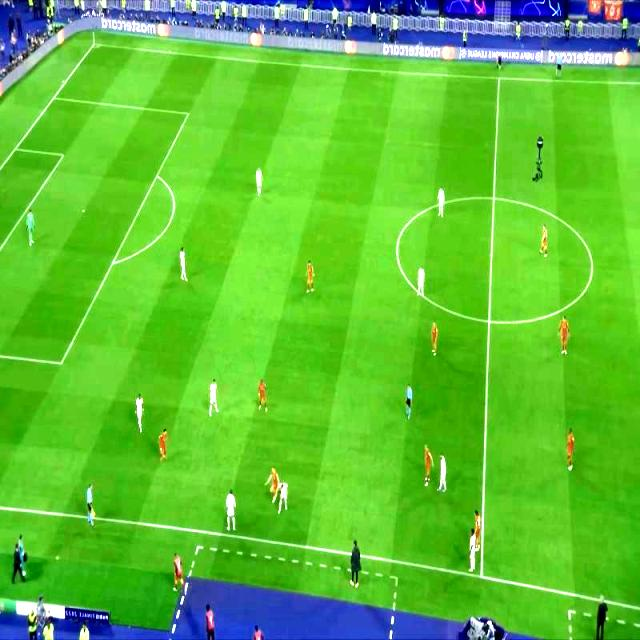bigarea_bottom_inner: (54, 356, 68, 371)
bigarea_top_inner: (182, 108, 194, 120)
bigarea_top_outter: (49, 89, 60, 107)
bottom_arc_area_intersection: (106, 256, 120, 270)
corner: (88, 39, 100, 51)
halfcircle_bottom: (482, 315, 496, 329)
halfcircle_top: (487, 193, 499, 204)
midline_bottom_intersection: (472, 569, 490, 584)
midline_top_intersection: (494, 72, 504, 86)
smallarea_top_inner: (58, 148, 68, 164)
smallarea_top_outter: (10, 142, 22, 156)
top_arc_area_intersection: (150, 170, 163, 183)
